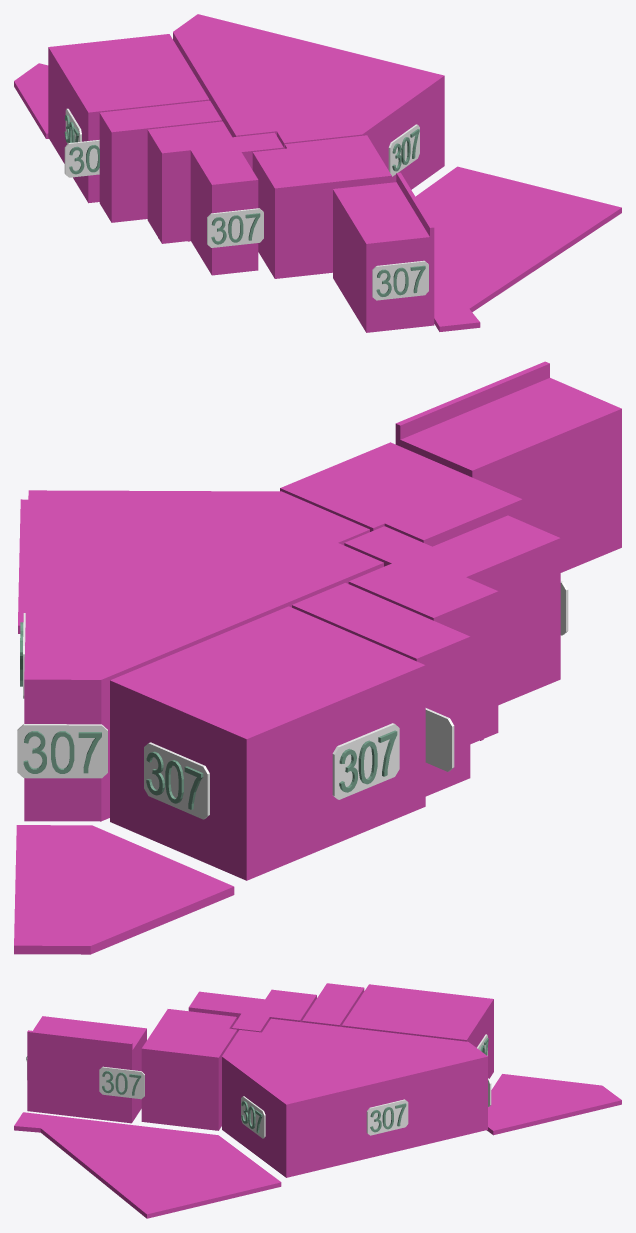
3 renders of one model, top to bottom at view 1: azimuth 30°, elevation 25°; view 2: azimuth 150°, elevation 25°; view 3: azimuth 270°, elevation 25°, orthographic. The views are drawn at different scales.
Parts seen in each view (by area): view 1: g_0, g_7, g_3, g_4, g_1, g_5, g_2, g_6, g_35, g_11, g_39, g_23; view 2: g_1, g_0, g_5, g_3, g_6, g_4, g_2, g_27, g_19, g_31, g_39, g_7; view 3: g_0, g_7, g_5, g_4, g_1, g_6, g_3, g_2, g_15, g_43, g_23.
Part boxes in pixels (x1,y1,x2,y2): g_0: [173, 14, 444, 189]; g_7: [415, 166, 621, 331]; g_3: [147, 121, 283, 275]; g_4: [252, 135, 391, 278]; g_1: [48, 34, 209, 203]; g_5: [333, 172, 434, 332]; g_2: [99, 100, 221, 222]; g_6: [14, 63, 48, 138]; g_35: [372, 260, 428, 300]; g_11: [207, 208, 263, 247]; g_39: [64, 140, 99, 177]; g_23: [388, 124, 419, 176]; g_1: [110, 606, 425, 880]; g_0: [24, 490, 383, 821]; g_5: [395, 361, 621, 572]; g_3: [344, 515, 560, 744]; g_6: [14, 825, 234, 954]; g_4: [280, 442, 522, 546]; g_2: [292, 583, 470, 796]; g_27: [17, 724, 107, 778]; g_19: [332, 723, 399, 799]; g_31: [144, 742, 209, 819]; g_39: [425, 708, 454, 771]; g_7: [18, 499, 28, 633]; g_0: [222, 1018, 487, 1177]; g_7: [14, 1112, 281, 1218]; g_5: [27, 1016, 146, 1123]; g_4: [141, 1009, 237, 1130]; g_1: [342, 984, 493, 1078]; g_6: [486, 1074, 621, 1135]; g_3: [188, 989, 316, 1032]; g_2: [302, 983, 364, 1026]; g_15: [99, 1066, 144, 1099]; g_43: [366, 1099, 408, 1135]; g_23: [241, 1096, 265, 1138].
Bounding box in the file's own units: 12.02 × 2.85 × 18.76.
